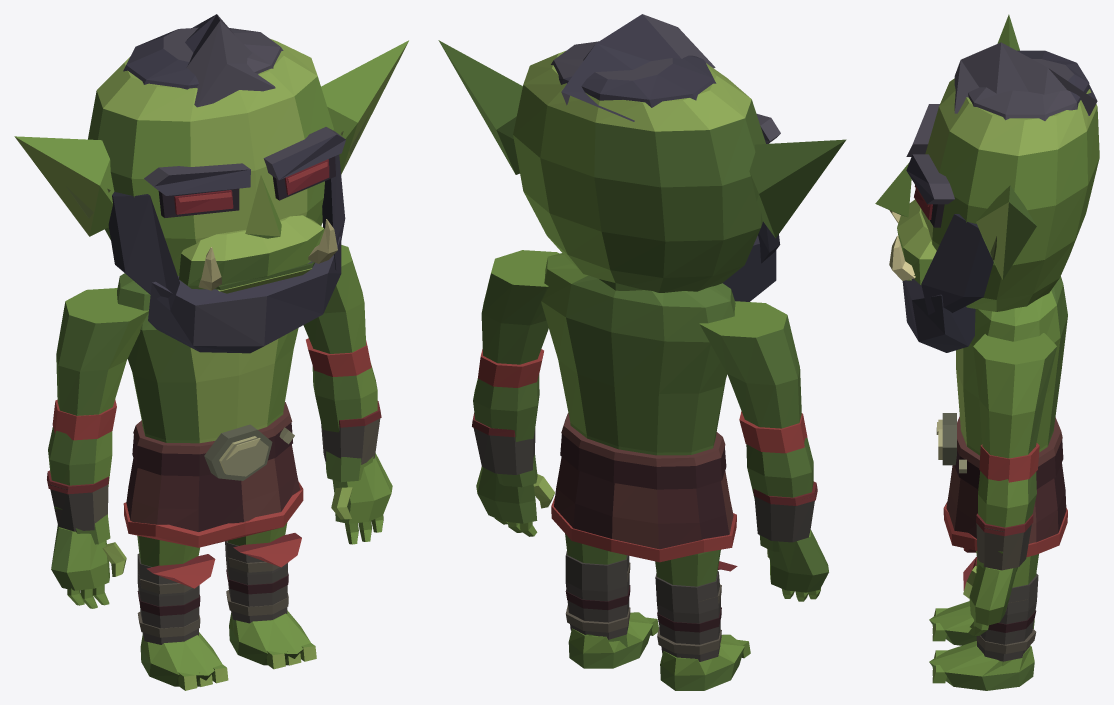
Rendered from goblin-01.obj.
The picture shows the model from 3 angles, left to right: view 1: azimuth 30°, elevation 25°; view 2: azimuth 150°, elevation 25°; view 3: azimuth 270°, elevation 25°; orthographic projection. The views are drawn at different scales.
Visible parts, largest first — view 1: head, torso, right_arm, beard, leather_skirt, left_arm, muzzle, right_ear, right_sideburn, crest_lock_1, scalp, left_ear (+33 smaller); view 2: head, torso, right_arm, left_arm, leather_skirt, scalp, right_ear, crest_lock_1, wide_belt, left_ear, right_shin_guard, left_shin_guard (+17 smaller); view 3: head, left_arm, torso, left_sideburn, crest_lock_1, scalp, leather_skirt, left_foot, beard, left_ear, left_palm, left_shin_guard (+17 smaller).
Part boxes in pixels (x1=…): head: x1=88, y1=39, x2=333, y2=276; torso: x1=117, y1=273, x2=298, y2=443; right_arm: x1=48, y1=288, x2=148, y2=544; beard: x1=148, y1=236, x2=341, y2=353; leather_skirt: x1=126, y1=444, x2=300, y2=531; left_arm: x1=303, y1=245, x2=377, y2=482; muzzle: x1=179, y1=215, x2=324, y2=289; right_ear: x1=14, y1=136, x2=114, y2=236; right_sideburn: x1=108, y1=192, x2=179, y2=310; crest_lock_1: x1=185, y1=14, x2=275, y2=107; scalp: x1=123, y1=27, x2=283, y2=89; left_ear: x1=321, y1=40, x2=408, y2=174; head: x1=513, y1=51, x2=765, y2=292; torso: x1=541, y1=253, x2=735, y2=455; right_arm: x1=699, y1=301, x2=813, y2=551; left_arm: x1=473, y1=250, x2=559, y2=487; leather_skirt: x1=554, y1=457, x2=733, y2=549; scalp: x1=551, y1=41, x2=716, y2=107; right_ear: x1=749, y1=139, x2=846, y2=238; crest_lock_1: x1=561, y1=14, x2=715, y2=121; wide_belt: x1=560, y1=434, x2=726, y2=489; left_ear: x1=438, y1=40, x2=522, y2=174; right_shin_guard: x1=655, y1=571, x2=720, y2=661; left_shin_guard: x1=565, y1=551, x2=629, y2=639; head: x1=921, y1=78, x2=1099, y2=311; left_arm: x1=973, y1=333, x2=1056, y2=571; torso: x1=956, y1=276, x2=1067, y2=455; left_sideburn: x1=921, y1=214, x2=993, y2=315; crest_lock_1: x1=954, y1=42, x2=1097, y2=115; scalp: x1=968, y1=50, x2=1089, y2=120; leather_skirt: x1=946, y1=463, x2=1066, y2=543; left_foot: x1=929, y1=641, x2=1034, y2=690; beard: x1=902, y1=278, x2=975, y2=352; left_ear: x1=976, y1=185, x2=1036, y2=279; left_palm: x1=969, y1=564, x2=1017, y2=625; left_shin_guard: x1=977, y1=573, x2=1038, y2=661.
Size of the model in its own units: 1.43 by 2.18 by 0.722.
